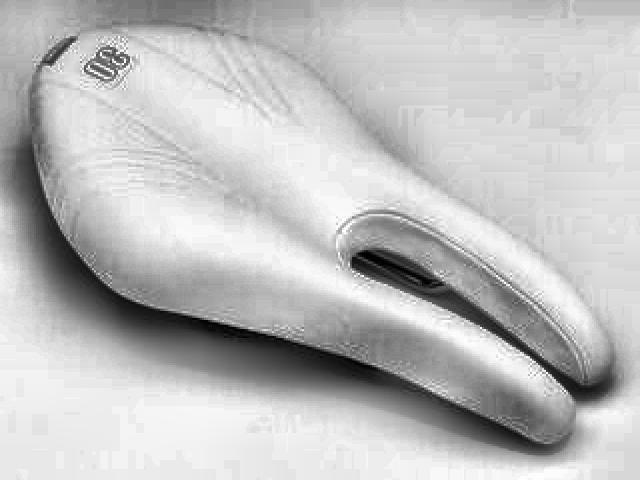saddle: (27, 22, 618, 448)
